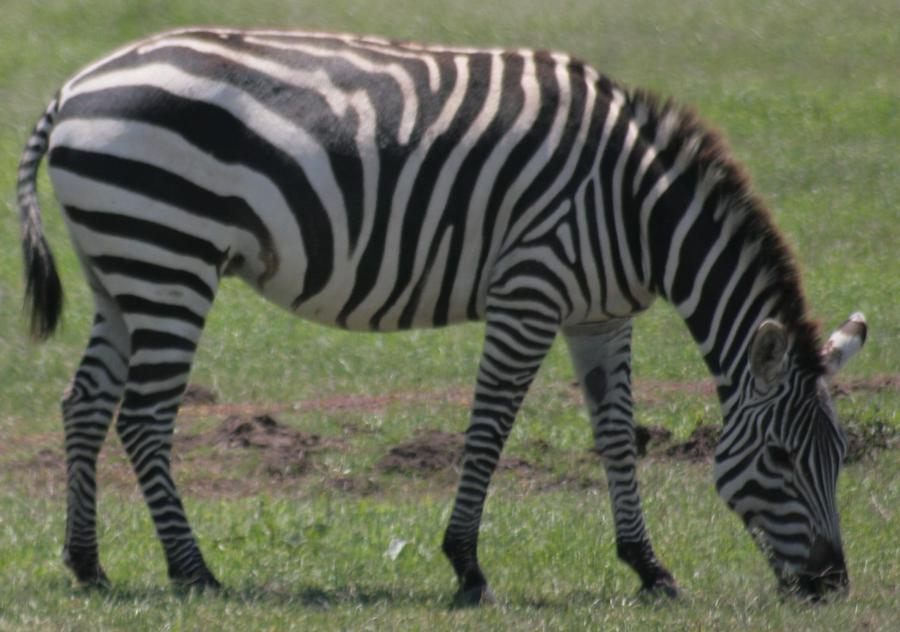zebra_plains: (57, 20, 644, 318)
